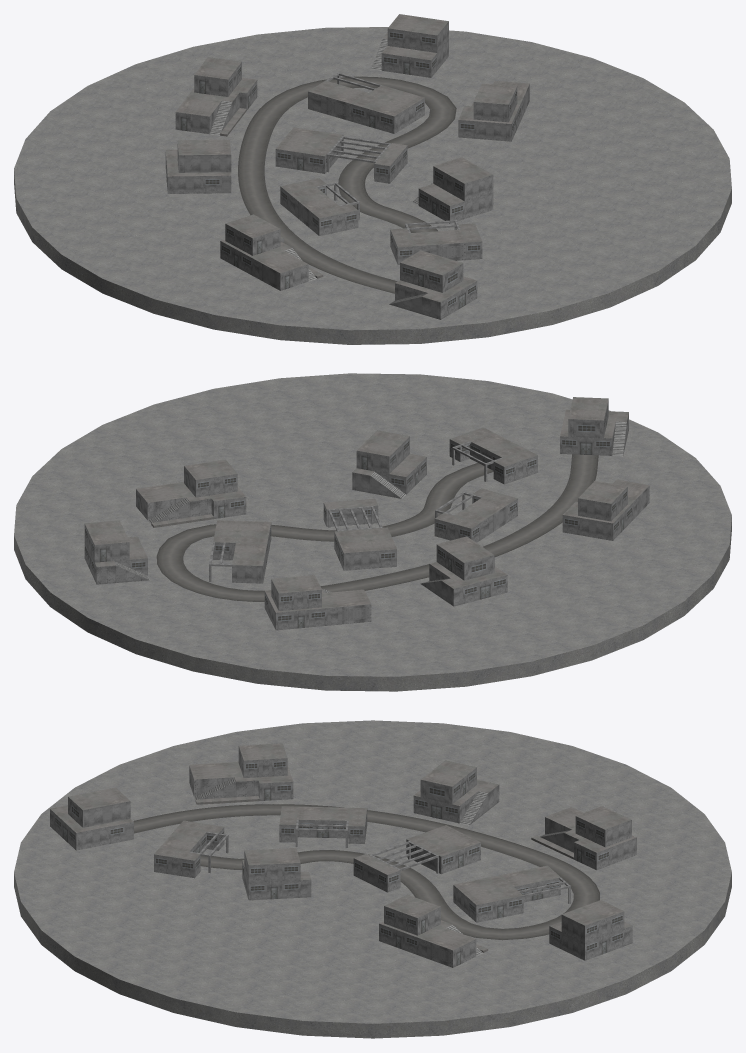
Rendered from shooting_game_enviornment_map_tdm.glb.
The picture shows the model from 3 angles, top to bottom: view 1: azimuth 30°, elevation 25°; view 2: azimuth 150°, elevation 25°; view 3: azimuth 270°, elevation 25°; orthographic projection.
Parts seen in each view (by area): view 1: ground, Road, Building_6, Building_6.002, Building_1, Building_4.001, Building_3, Building_2, Building_2.001, Building_4, Building_6.001, Building_5 (+1 smaller); view 2: ground, Road, Building_6.001, Building_6, Building_4, Building_3, Building_6.002, Building_2.001, Building_4.001, Building_2, Building_1, Building_5 (+1 smaller); view 3: ground, Road, Building_6.002, Building_6, Building_6.001, Building_3, Building_1, Building_4.001, Building_4, Building_2, Building_2.001, Building_5 (+1 smaller).
Part boxes in pixels (bbox=[...]): ground: bbox=[14, 27, 731, 344]; Road: bbox=[238, 76, 456, 293]; Building_6: bbox=[175, 57, 257, 136]; Building_6.002: bbox=[220, 214, 323, 290]; Building_1: bbox=[308, 72, 424, 133]; Building_4.001: bbox=[389, 250, 477, 319]; Building_3: bbox=[275, 127, 407, 183]; Building_2: bbox=[371, 14, 448, 77]; Building_2.001: bbox=[412, 157, 493, 223]; Building_4: bbox=[165, 139, 231, 193]; Building_6.001: bbox=[458, 80, 529, 141]; Building_5: bbox=[280, 178, 359, 235]; ground: bbox=[14, 373, 731, 691]; Road: bbox=[156, 454, 598, 601]; Building_6.001: bbox=[136, 459, 246, 527]; Building_6: bbox=[264, 575, 371, 630]; Building_4: bbox=[420, 536, 507, 606]; Building_3: bbox=[323, 498, 396, 570]; Building_6.002: bbox=[562, 479, 649, 540]; Building_2.001: bbox=[352, 430, 426, 498]; Building_4.001: bbox=[560, 397, 628, 456]; Building_2: bbox=[84, 520, 149, 584]; Building_1: bbox=[209, 520, 271, 583]; Building_5: bbox=[434, 488, 517, 542]; ground: bbox=[14, 720, 731, 1038]; Road: bbox=[133, 804, 599, 940]; Building_6.002: bbox=[189, 743, 293, 804]; Building_6: bbox=[531, 806, 636, 870]; Building_6.001: bbox=[379, 894, 488, 967]; Building_3: bbox=[353, 825, 480, 892]; Building_1: bbox=[453, 865, 570, 922]; Building_4.001: bbox=[50, 787, 133, 850]; Building_4: bbox=[413, 760, 499, 825]; Building_2: bbox=[549, 900, 632, 960]; Building_2.001: bbox=[242, 848, 311, 900]; Building_5: bbox=[279, 806, 367, 847].
Size of the model in its own units: 115 by 8.83 by 115.
3 materials, 3 textured.
